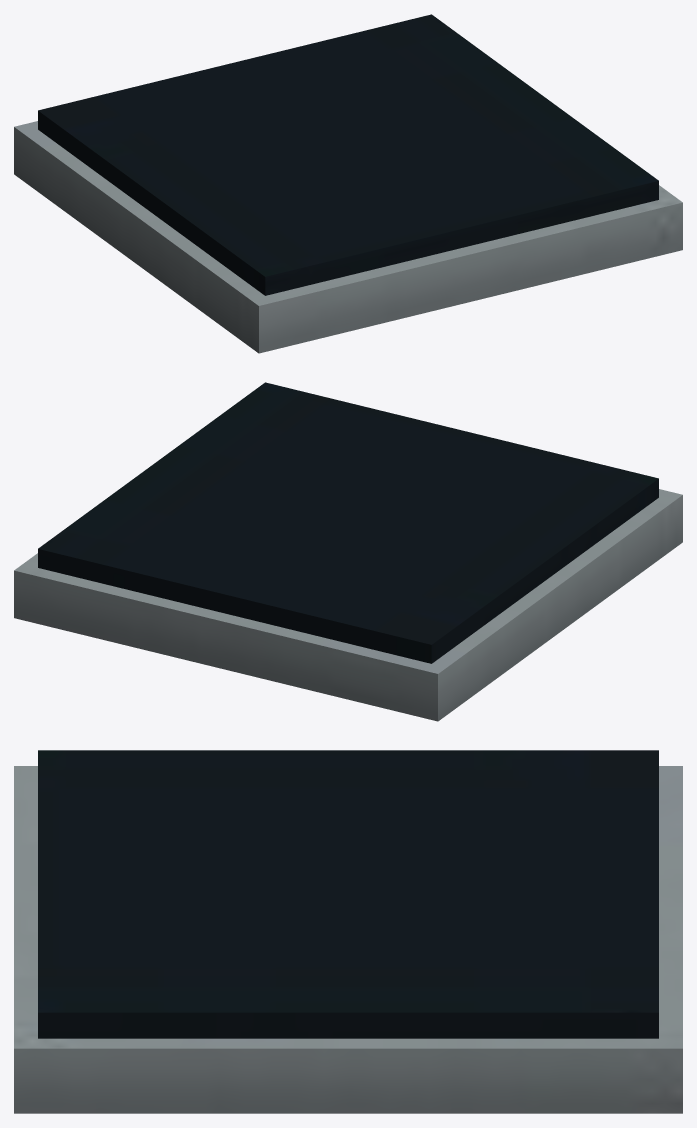
The model's file is solar-panel.glb.
The picture shows the model from 3 angles, top to bottom: view 1: azimuth 30°, elevation 25°; view 2: azimuth 150°, elevation 25°; view 3: azimuth 270°, elevation 25°; orthographic projection. The views are drawn at different scales.
Visible parts, largest first — view 1: solar-panel; view 2: solar-panel; view 3: solar-panel.
Part boxes in pixels (<box>): solar-panel: <box>14,14,682,353</box>; solar-panel: <box>14,382,682,721</box>; solar-panel: <box>14,750,682,1113</box>.
Size of the model in its own units: 0.28 by 0.042 by 0.28.
Materials: 1 (1 with a texture image).
